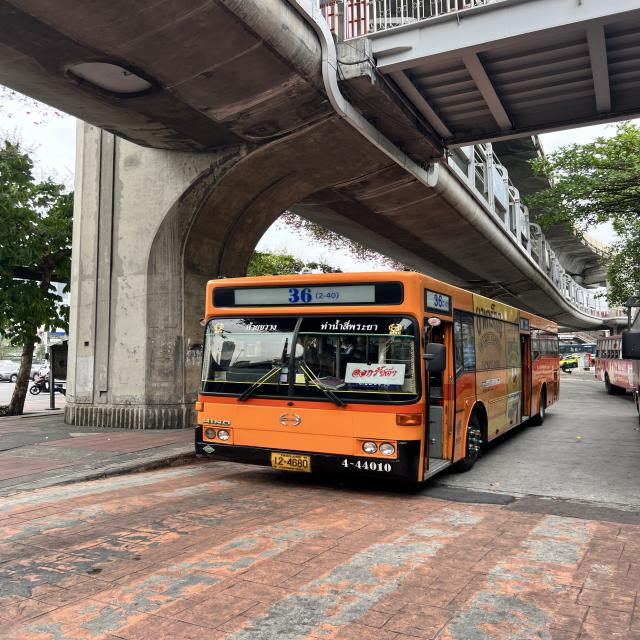BMTA-bus: (193, 271, 562, 489)
Bus Line Number: (274, 283, 348, 305), (431, 289, 455, 310)
Bus Side Number: (336, 456, 398, 475)
Destination Sign: (345, 361, 403, 386)
